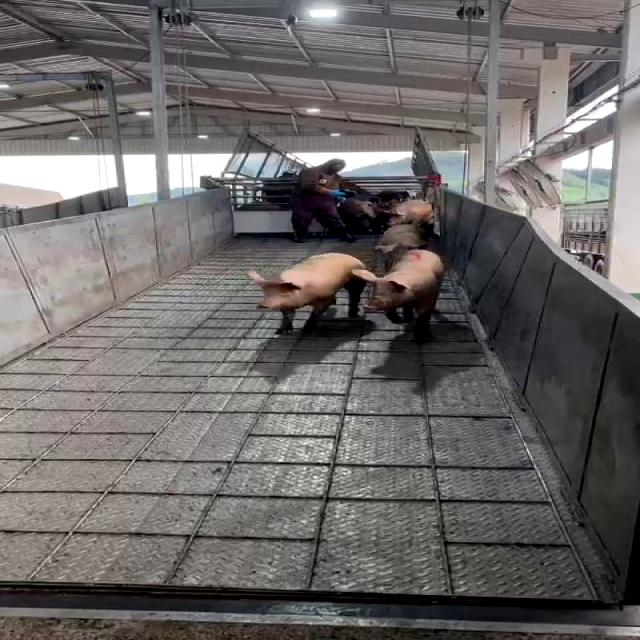pig: (248, 252, 374, 333), (369, 250, 445, 341)
